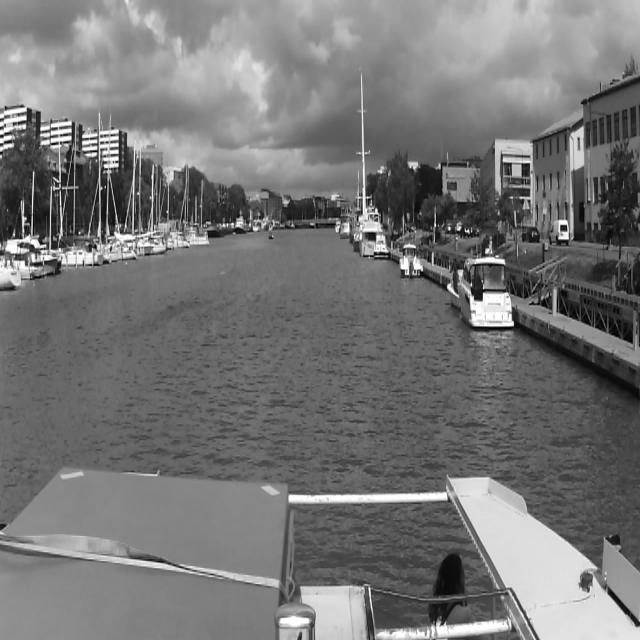ship: (53, 119, 103, 268), (459, 232, 517, 338), (33, 91, 63, 282), (351, 69, 371, 248), (140, 144, 178, 236), (399, 240, 425, 283), (360, 212, 384, 258), (446, 264, 466, 310), (372, 231, 390, 263), (341, 207, 354, 240), (233, 210, 249, 236), (269, 231, 275, 241)
